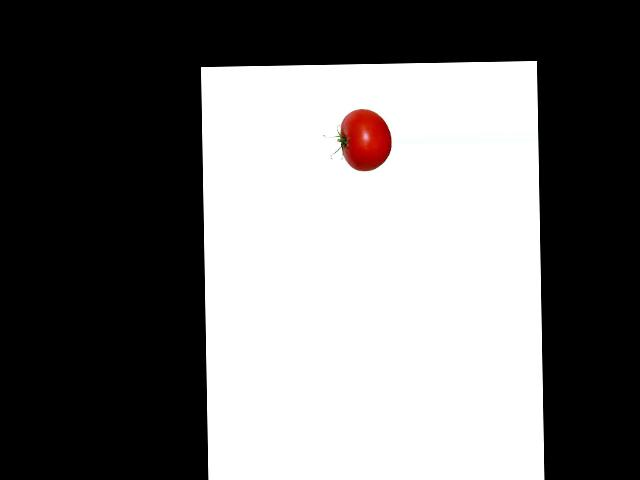tomato: (339, 107, 392, 171)
